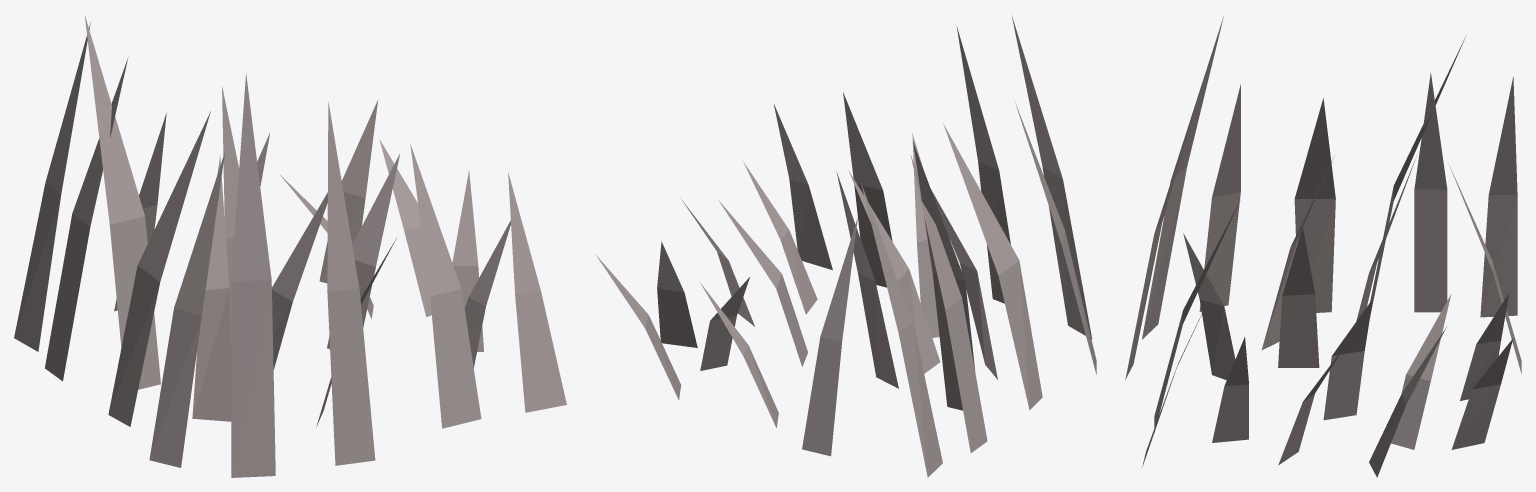
3 renders of one model, left to right at view 1: azimuth 30°, elevation 25°; view 2: azimuth 150°, elevation 25°; view 3: azimuth 270°, elevation 25°, orthographic. The views are drawn at different scales.
Size of the model in its own units: 99 by 89 by 96.
1 material, 1 textured.
